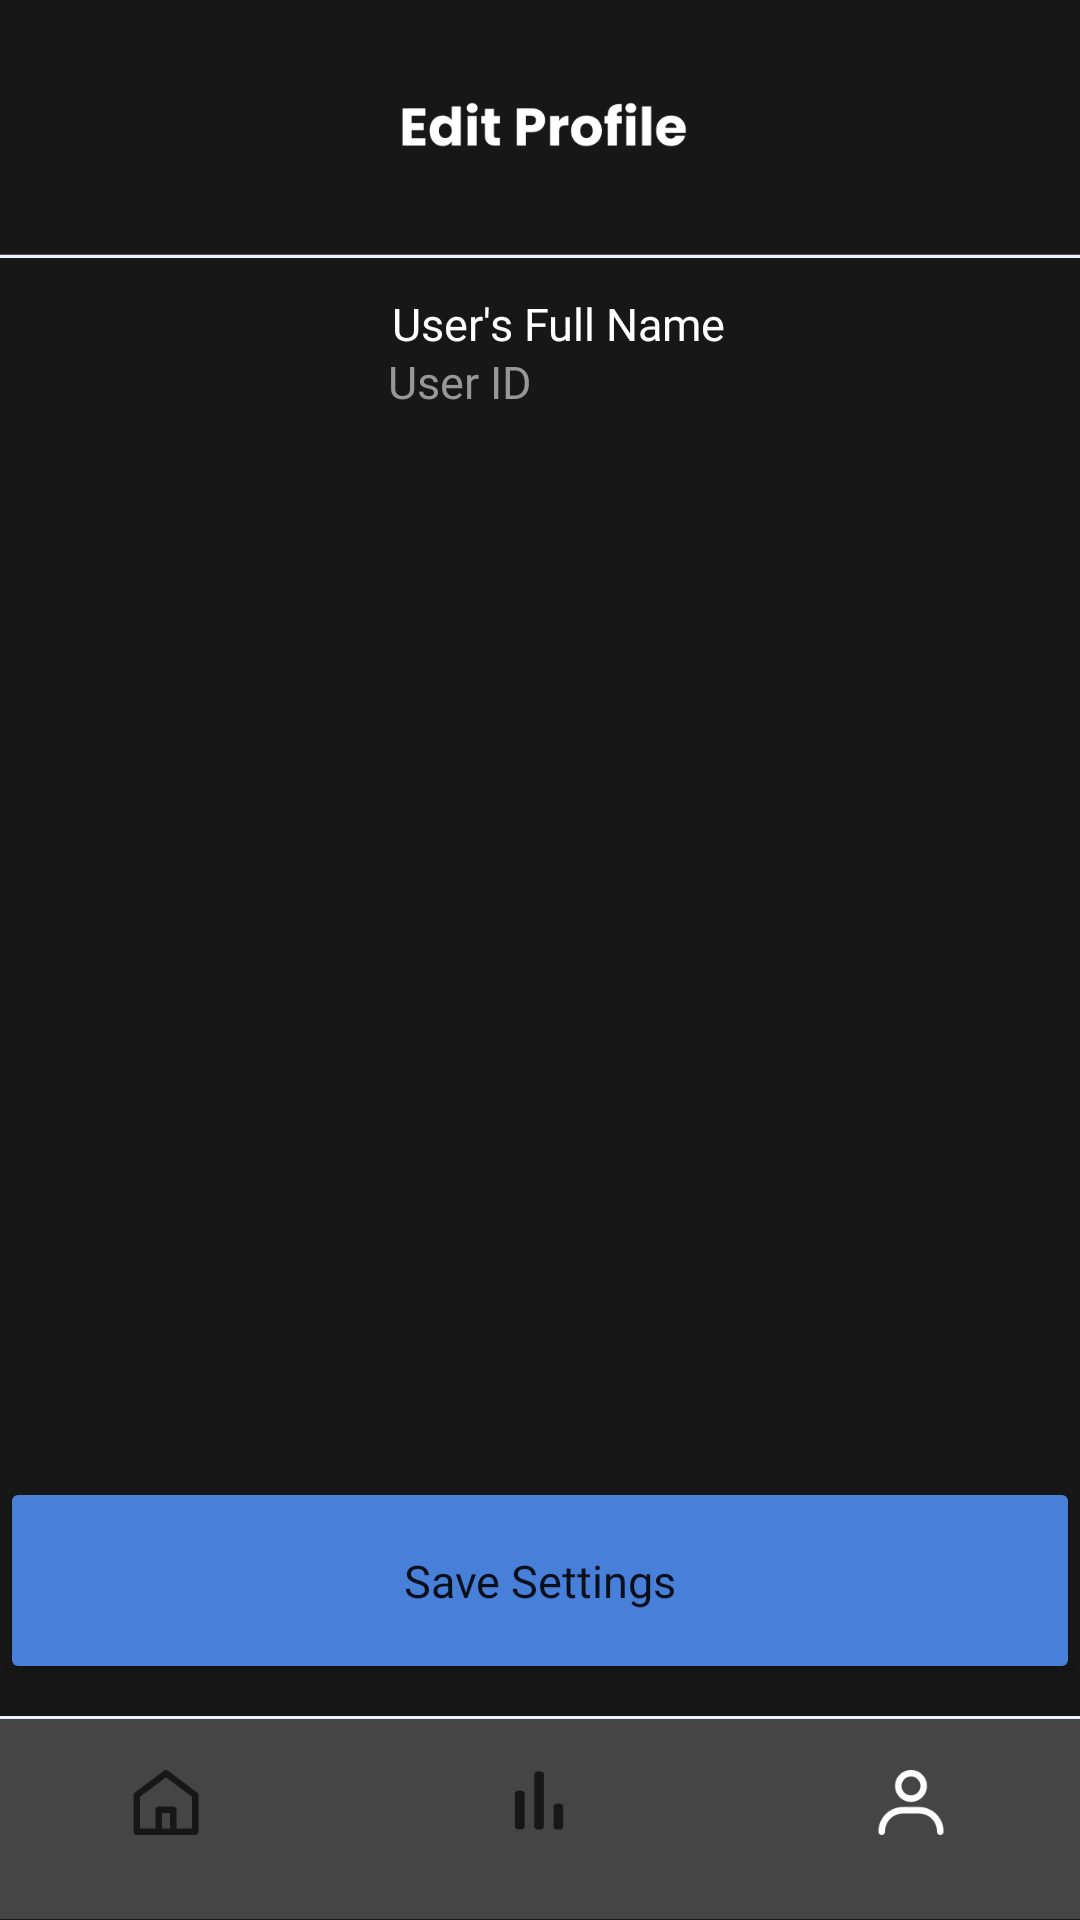

Screen size 1080 × 1920. Icon name, then its center in pixels as [x,y]:
home: [166,1802]
stats: [539,1800]
user: [911,1802]
